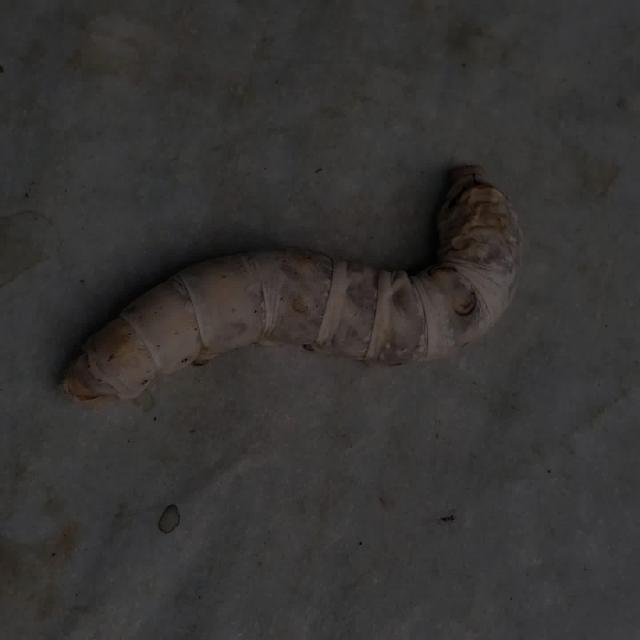Grasserie: (53, 150, 546, 436)
